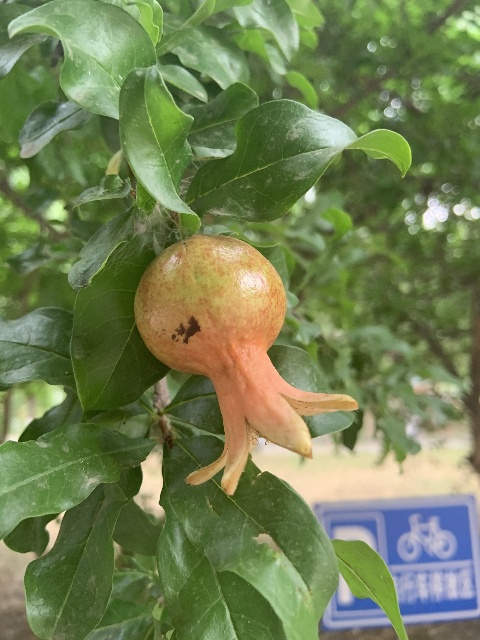early-fruit: (134, 233, 357, 499)
